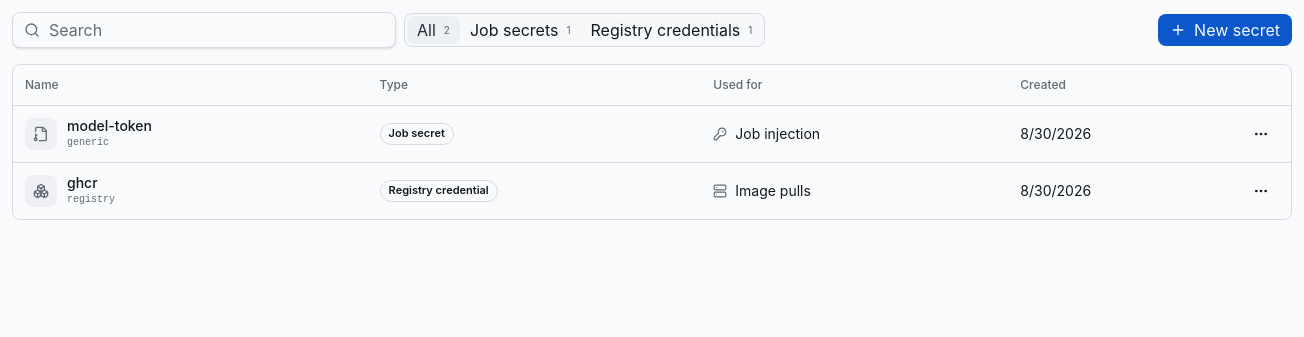
Test case: Secrets › searches and filters the secret inventory
Check: the text "model-token" is shown, box [67, 116, 152, 136]
Step 1. Click the button "Registry credentials 1" → {"x": 671, "y": 30}, box [580, 16, 762, 44]
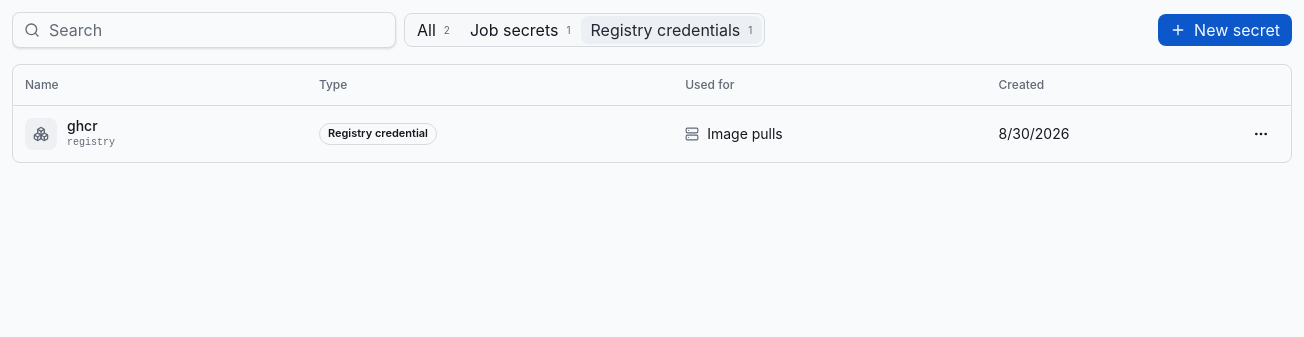
Check: the text "ghcr" is shown, box [67, 117, 98, 134]
Check: the text "model-token" is gone
Step 2. Type "missing" into the field named "Search secrets" → {"x": 204, "y": 30}, box [12, 12, 396, 48]
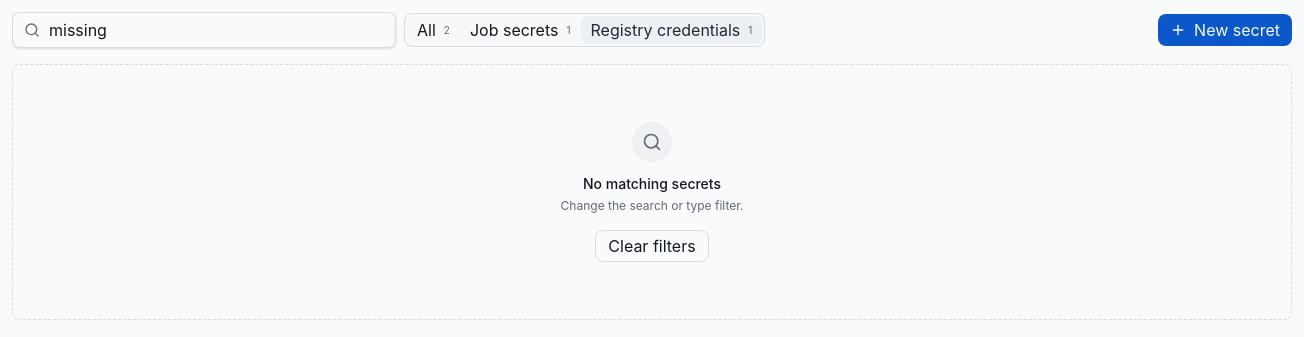
Check: the heading "No matching secrets" is shown, box [583, 174, 721, 194]
